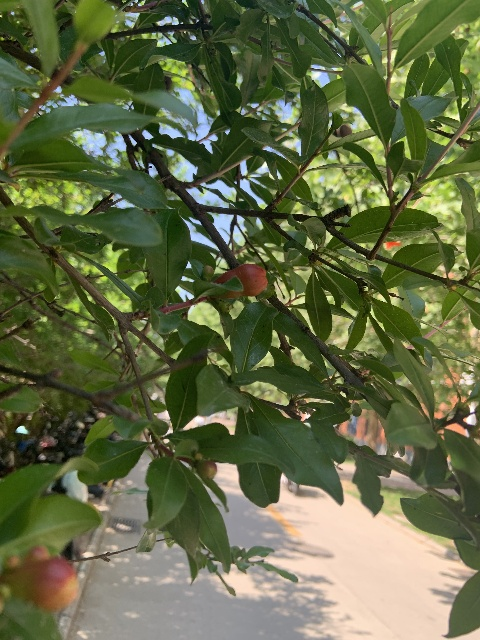bud: (24, 556, 79, 612), (212, 263, 267, 296), (196, 459, 217, 479), (337, 124, 353, 137)
